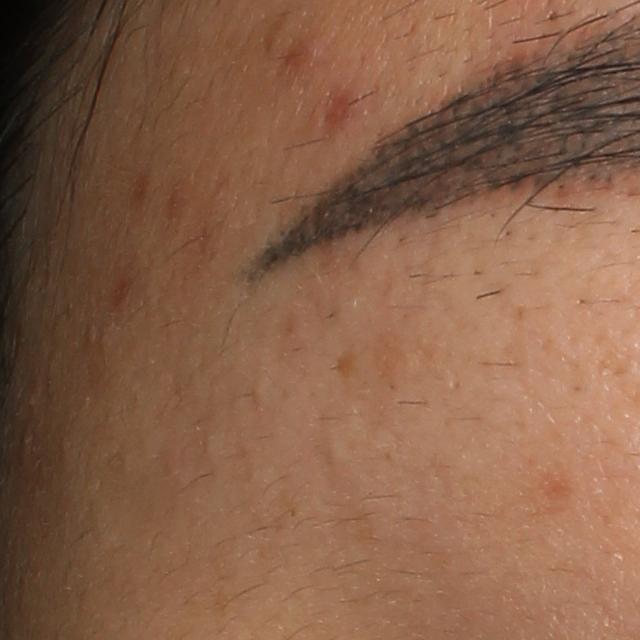comedo: (319, 435, 351, 471)
